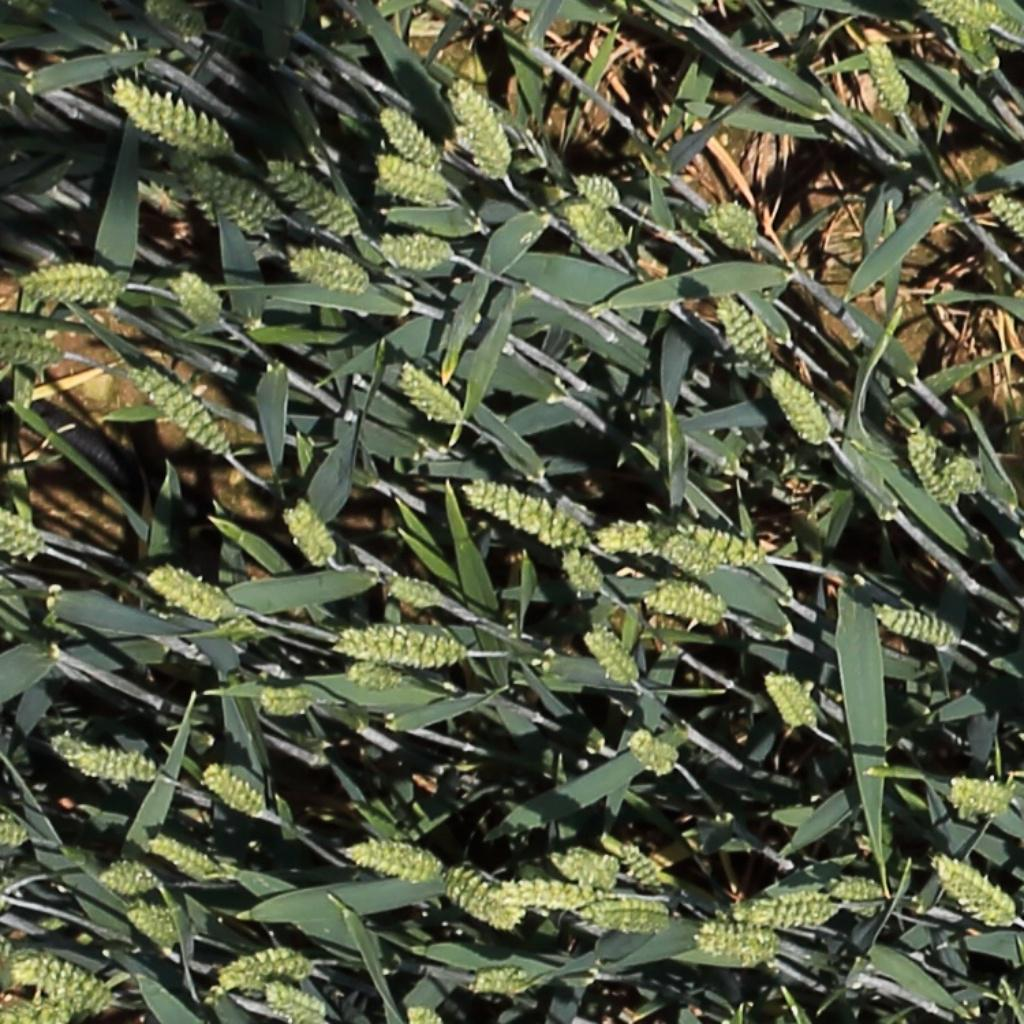0-0: (110, 76, 244, 158), (124, 364, 236, 462), (593, 512, 769, 568), (263, 157, 364, 241), (462, 481, 587, 547), (445, 72, 516, 181), (931, 847, 1016, 931), (328, 623, 469, 671), (437, 860, 523, 934), (141, 563, 242, 624), (203, 947, 317, 999), (765, 363, 832, 447), (871, 600, 961, 661), (196, 163, 287, 222), (47, 736, 160, 783), (18, 261, 130, 308), (711, 289, 772, 374), (902, 420, 958, 512), (286, 241, 374, 299), (336, 840, 444, 887), (859, 26, 915, 115), (374, 99, 441, 173), (199, 758, 276, 821), (640, 580, 734, 627), (725, 892, 841, 930), (279, 498, 338, 572), (394, 361, 462, 424), (484, 876, 607, 910), (147, 827, 223, 880), (569, 899, 673, 937), (560, 189, 622, 252), (166, 265, 228, 328), (941, 770, 1020, 819), (547, 842, 624, 889), (580, 628, 640, 688), (368, 232, 455, 273), (761, 670, 816, 734), (692, 922, 786, 958), (623, 725, 684, 777), (262, 979, 332, 1024), (661, 532, 732, 576), (143, 0, 211, 44), (9, 951, 92, 987), (372, 157, 446, 196), (92, 855, 163, 895), (825, 874, 885, 920), (39, 979, 121, 1012), (1, 509, 53, 560), (121, 905, 187, 945), (557, 546, 604, 600), (704, 202, 757, 249), (957, 30, 1003, 82), (213, 196, 270, 237), (922, 0, 995, 32), (1, 330, 64, 367), (619, 838, 666, 887), (985, 189, 1024, 244), (982, 2, 1024, 53), (260, 684, 319, 720), (463, 966, 536, 995), (385, 575, 446, 609), (344, 662, 403, 692), (572, 172, 621, 207), (946, 453, 984, 496), (0, 1004, 72, 1024), (0, 809, 32, 851), (402, 1003, 446, 1024), (739, 948, 780, 969)
